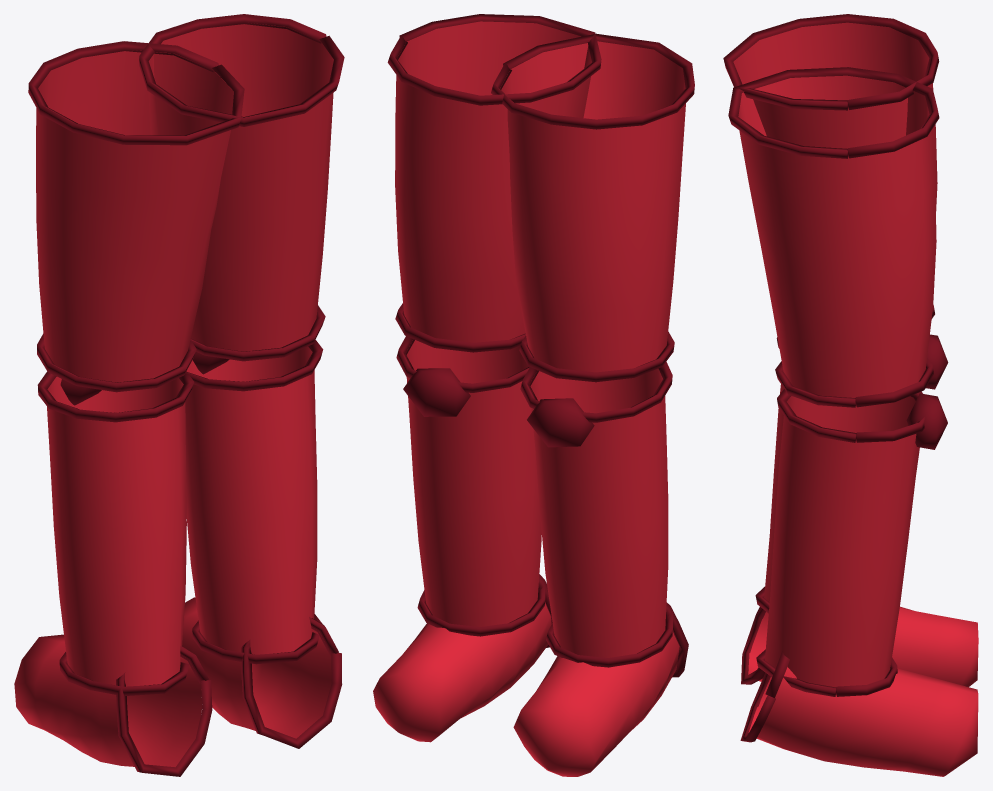
Rendered from adamantite_greaves.glb.
3 renders of one model, left to right at view 1: azimuth 30°, elevation 25°; view 2: azimuth 150°, elevation 25°; view 3: azimuth 270°, elevation 25°, orthographic. The views are drawn at different scales.
Visible parts, largest first — view 1: adamantite_greaves_cuisse.L; view 2: adamantite_greaves_cuisse.L; view 3: adamantite_greaves_cuisse.L.
Boxes of the visible parts, x1,y1,x2,y2 form: adamantite_greaves_cuisse.L: [14, 14, 344, 776]; adamantite_greaves_cuisse.L: [373, 14, 694, 776]; adamantite_greaves_cuisse.L: [723, 14, 978, 776].
Bounding box in the file's own units: 0.4249 × 0.9563 × 0.3366.
